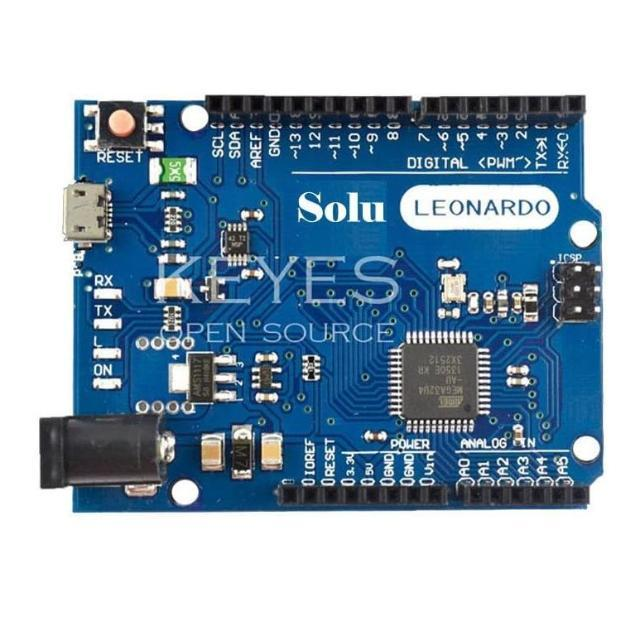Arduino-leonardo: (41, 96, 603, 513)
